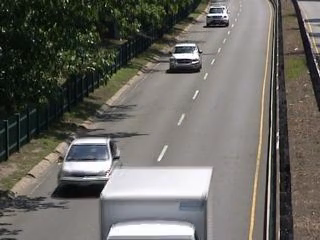car: (58, 136, 123, 194), (165, 41, 208, 76), (200, 2, 233, 32)
truck: (96, 162, 219, 240)
